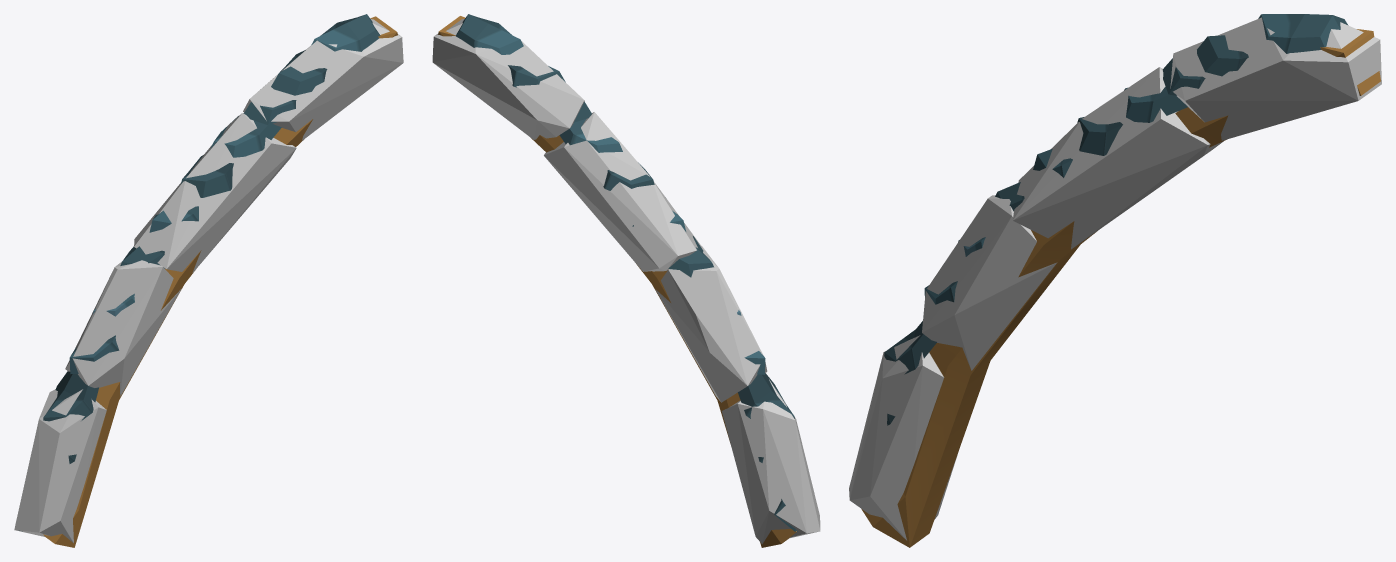
Rendered from SM_Bld_Roof_End_Convex_01.fbx.
The picture shows the model from 3 angles, left to right: view 1: azimuth 30°, elevation 25°; view 2: azimuth 150°, elevation 25°; view 3: azimuth 330°, elevation 25°; orthographic projection. The views are drawn at different scales.
Visible parts, largest first — view 1: SM_Bld_Roof_End_Convex_01_ConvexHulls, SM_Bld_Roof_End_Convex_01; view 2: SM_Bld_Roof_End_Convex_01_ConvexHulls, SM_Bld_Roof_End_Convex_01; view 3: SM_Bld_Roof_End_Convex_01_ConvexHulls, SM_Bld_Roof_End_Convex_01.
Part boxes in pixels (x1,y1,x2,y2): SM_Bld_Roof_End_Convex_01_ConvexHulls: (14,19,403,542); SM_Bld_Roof_End_Convex_01: (19,14,397,547); SM_Bld_Roof_End_Convex_01_ConvexHulls: (432,19,820,544); SM_Bld_Roof_End_Convex_01: (438,14,797,547); SM_Bld_Roof_End_Convex_01_ConvexHulls: (849,17,1381,540); SM_Bld_Roof_End_Convex_01: (861,14,1380,547).
Size of the model in its own units: 291 by 42.82 by 332.
Materials: 2 (1 with a texture image).
